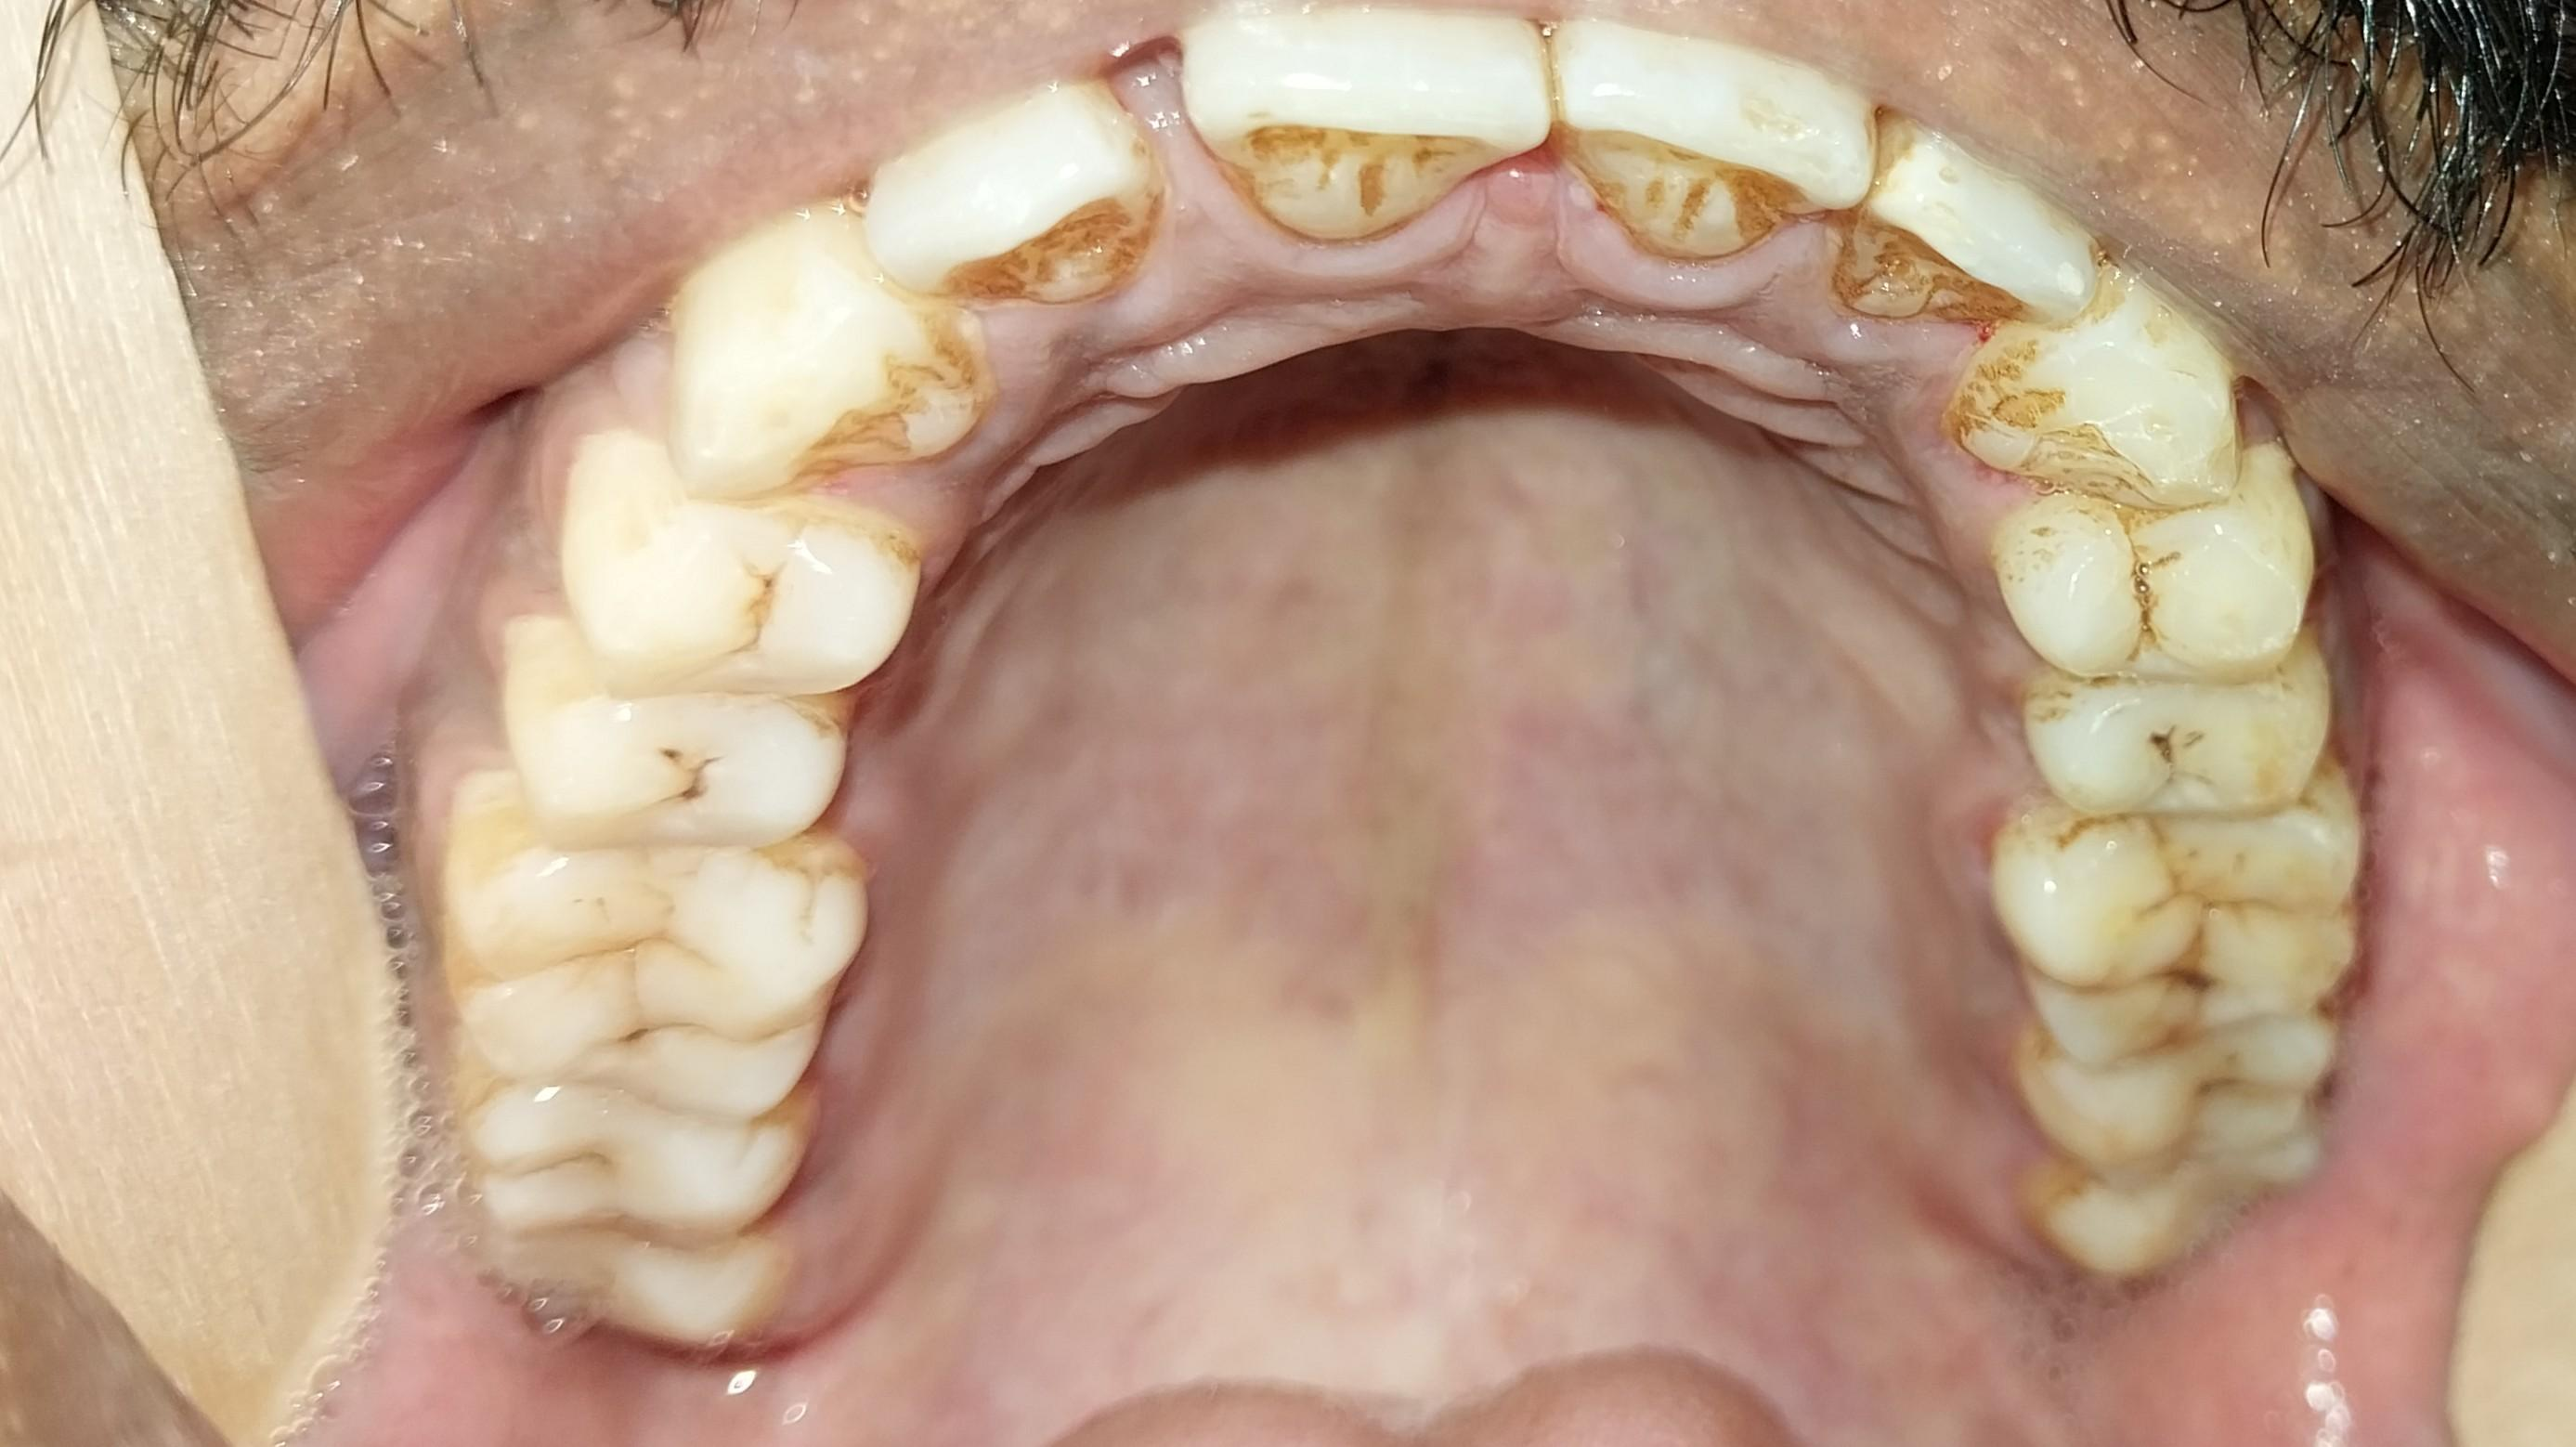D: (436, 798, 864, 1123), (2002, 803, 2361, 1064), (494, 616, 850, 850), (1997, 489, 2315, 683), (2026, 640, 2327, 814)
